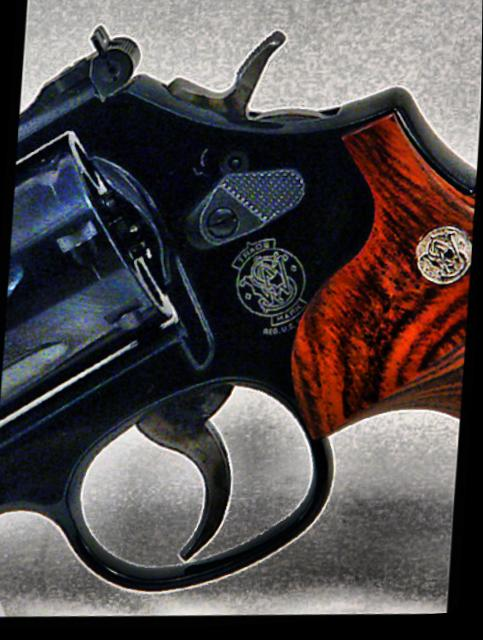pistol: (0, 5, 483, 618)
